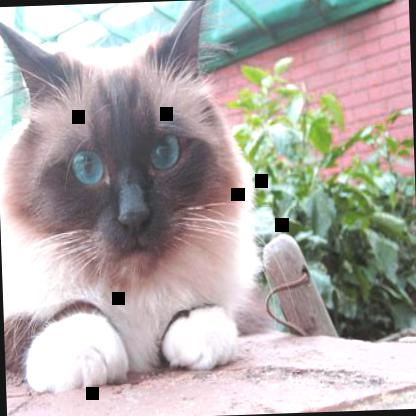cat: (0, 0, 272, 399)
